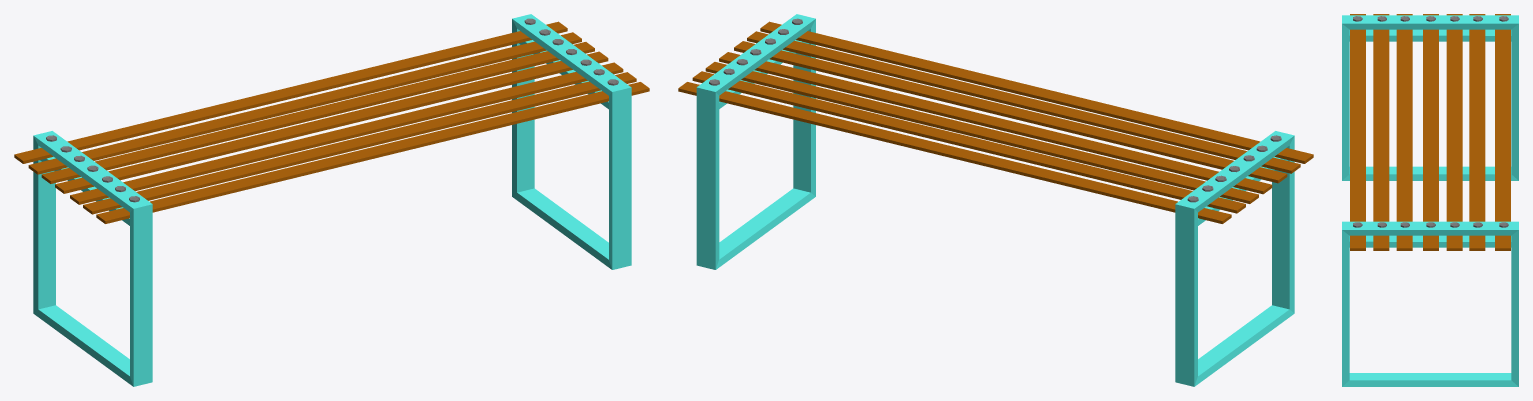
Rendered from Banco 1.fbx.
3 views of the same model, side by side, from view 1: azimuth 30°, elevation 25°; view 2: azimuth 150°, elevation 25°; view 3: azimuth 270°, elevation 25° (orthographic). The views are drawn at different scales.
Visible parts, largest first — view 1: Cube.002, Cube.001, Cylinder.006; view 2: Cube.002, Cube.001, Cylinder.006; view 3: Cube.002, Cube.001, Cylinder.006.
Part boxes in pixels (x1,y1,x2,y2): Cube.002: (14, 21, 649, 223); Cube.001: (33, 14, 631, 386); Cylinder.006: (46, 18, 618, 202); Cube.002: (678, 21, 1313, 223); Cube.001: (696, 14, 1294, 386); Cylinder.006: (709, 18, 1281, 202); Cube.002: (1350, 14, 1510, 250); Cube.001: (1342, 15, 1518, 386); Cylinder.006: (1353, 16, 1508, 227).
Bounding box in the file's own units: 690 × 218 × 220.
